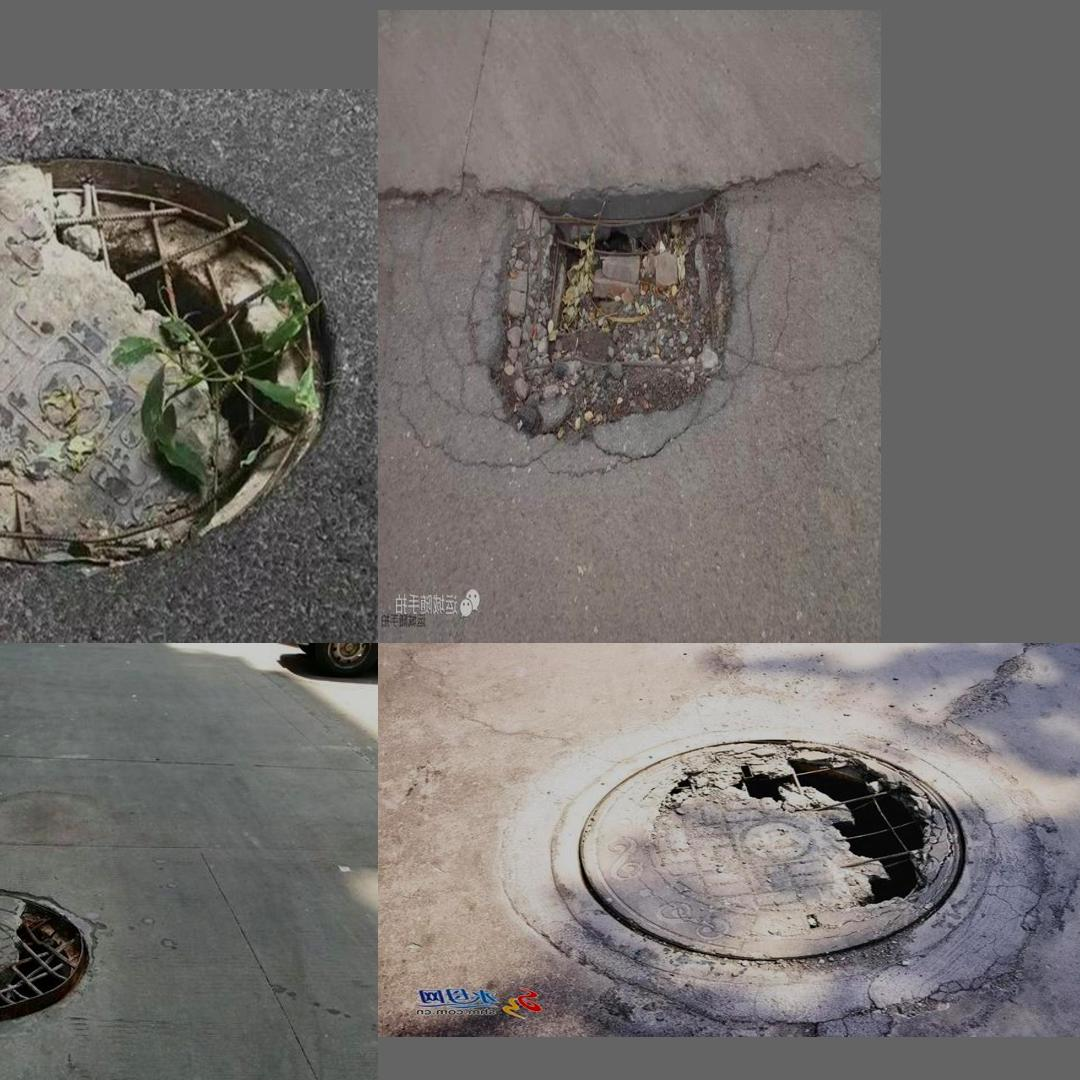broke: (473, 715, 1079, 1009), (0, 146, 343, 573), (458, 123, 773, 497), (0, 853, 136, 1068)
